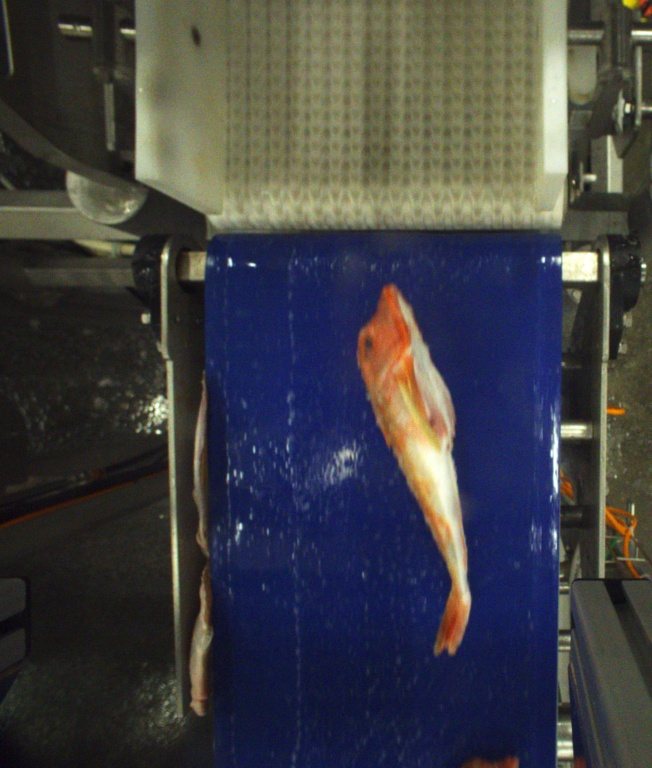GUU: (355, 284, 472, 654)
